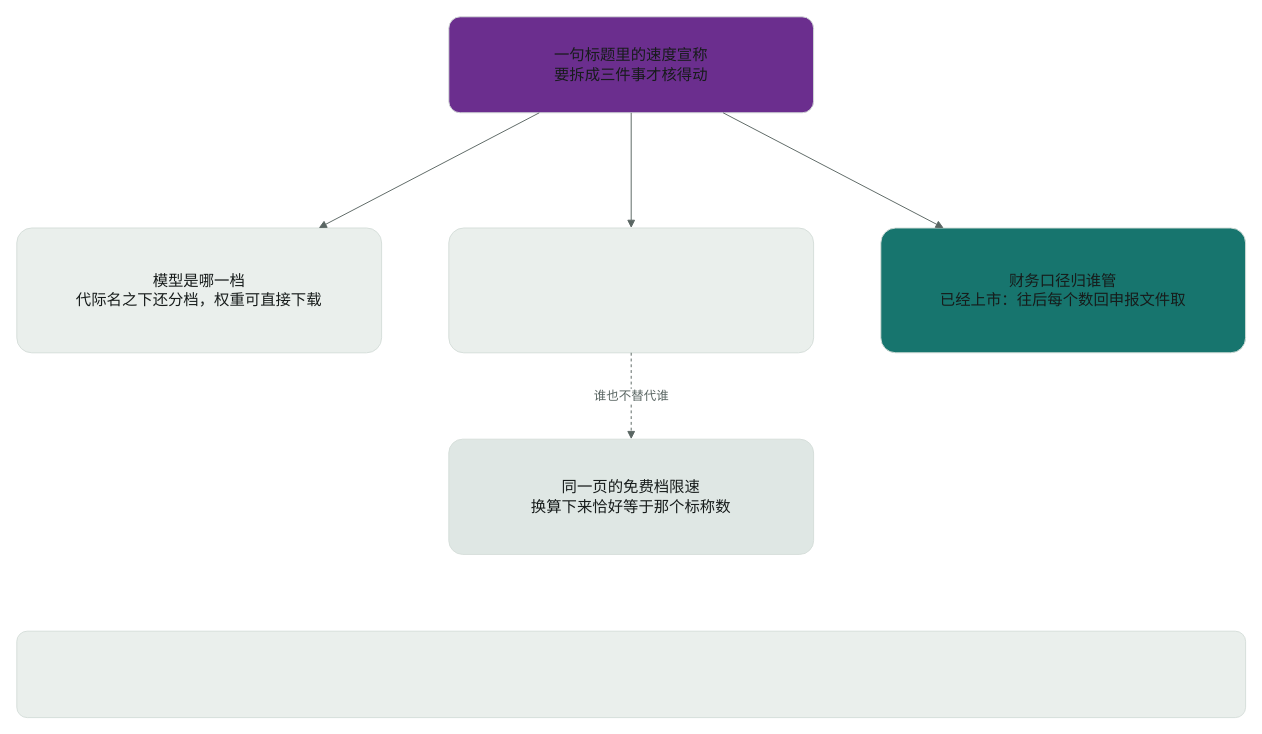
Image size: 1262x734. Some labels were removed from this diagram. Each missing label, with the centre of its shape:
"媒体报道只作旁证 引用一律落到具体文件与具体页次" belongs at [631,674].
"这数谁在什么条件下说的 厂商标称与第三方实测不是一个量纲" belongs at [631,290].
